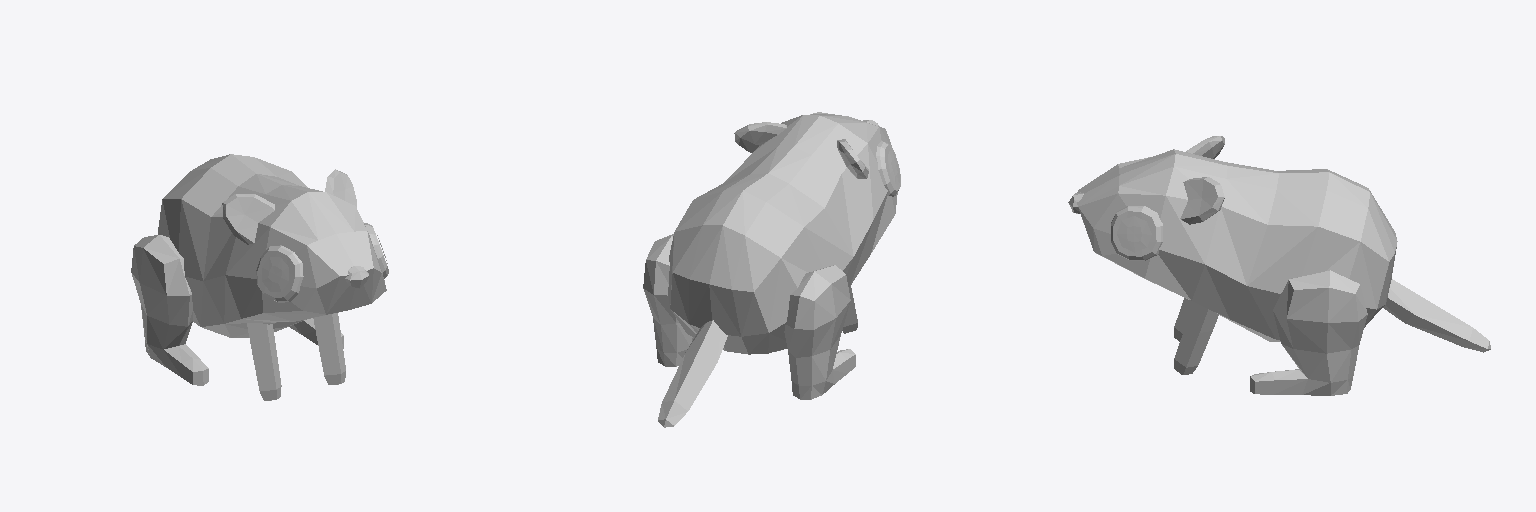
File: Muskrat_LOD2.obj
3 views of the same model, side by side, from view 1: azimuth 30°, elevation 25°; view 2: azimuth 150°, elevation 25°; view 3: azimuth 270°, elevation 25° (orthographic).
Visible parts, largest first — view 1: Mesh_Muskrat_LOD2; view 2: Mesh_Muskrat_LOD2; view 3: Mesh_Muskrat_LOD2.
Part boxes in pixels (x1,y1,x2,y2): Mesh_Muskrat_LOD2: (131, 154, 388, 400); Mesh_Muskrat_LOD2: (643, 112, 900, 427); Mesh_Muskrat_LOD2: (1068, 136, 1490, 395).
Size of the model in its own units: 0.4704 by 0.4985 by 0.9343.